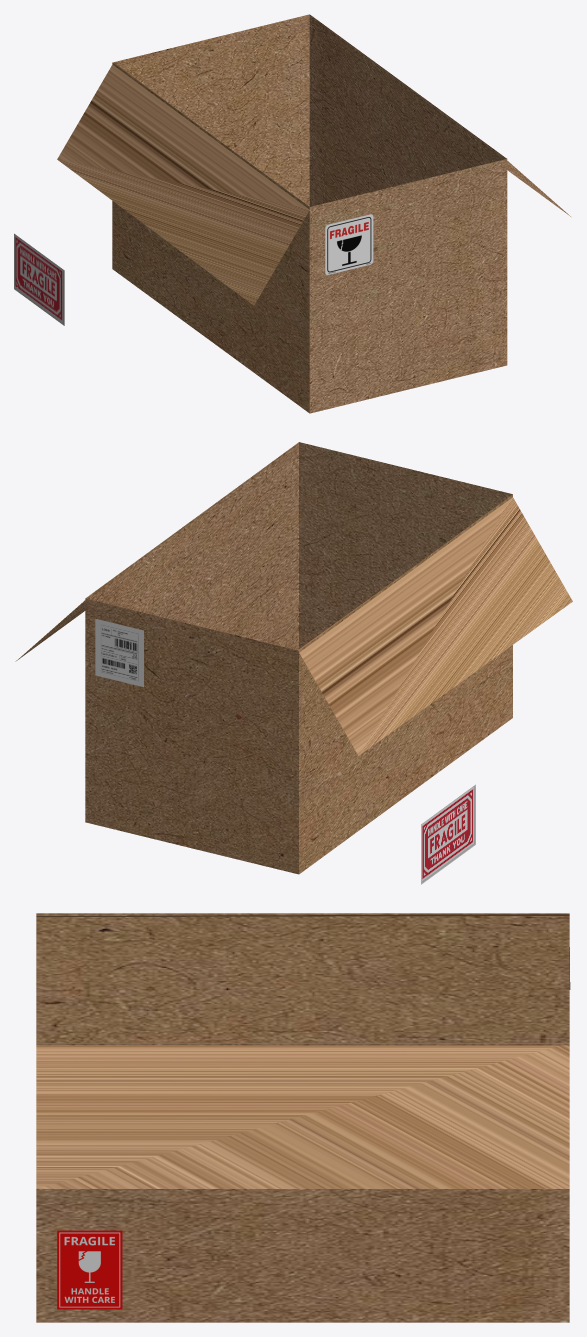
File: Opened Cardboard Box.glb
3 renders of one model, top to bottom at view 1: azimuth 30°, elevation 25°; view 2: azimuth 150°, elevation 25°; view 3: azimuth 270°, elevation 25°, orthographic. The views are drawn at different scales.
Visible parts, largest first — view 1: Cardboard Box, Cardboard Box.002, Fragile Thank You, Glass Fragile Sticker; view 2: Cardboard Box, Cardboard Box.002, Fragile Thank You, Address Sticker.001; view 3: Cardboard Box, Cardboard Box.001, Fragile Handle with Care.001, Cardboard Box.002.
Boxes of the visible parts, x1,y1,x2,y2 form: Cardboard Box: (112,14,507,413); Cardboard Box.002: (57,62,309,305); Fragile Thank You: (14,233,64,325); Glass Fragile Sticker: (325,214,373,274); Cardboard Box: (85,442,512,874); Cardboard Box.002: (298,497,572,755); Fragile Thank You: (421,784,475,884); Address Sticker.001: (95,618,143,687); Cardboard Box: (36,913,569,1322); Cardboard Box.001: (36,1043,569,1188); Fragile Handle with Care.001: (57,1230,122,1309); Cardboard Box.002: (36,914,570,989).
Bounding box in the file's own units: 3.7 × 1.98 × 3.6.
5 materials, 5 textured.
